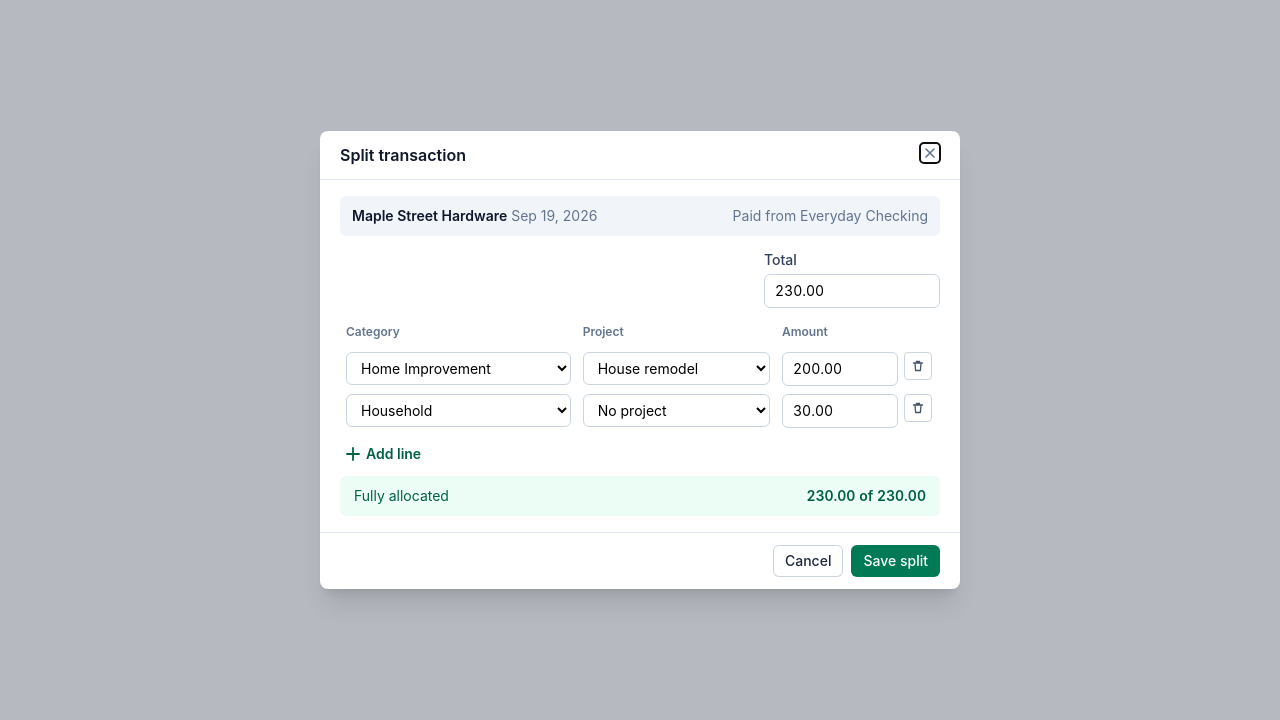
it: split editor › switches to the correction path when a save meets the lock
Click the button "Save split": x=896, y=561 [852,545,940,577]
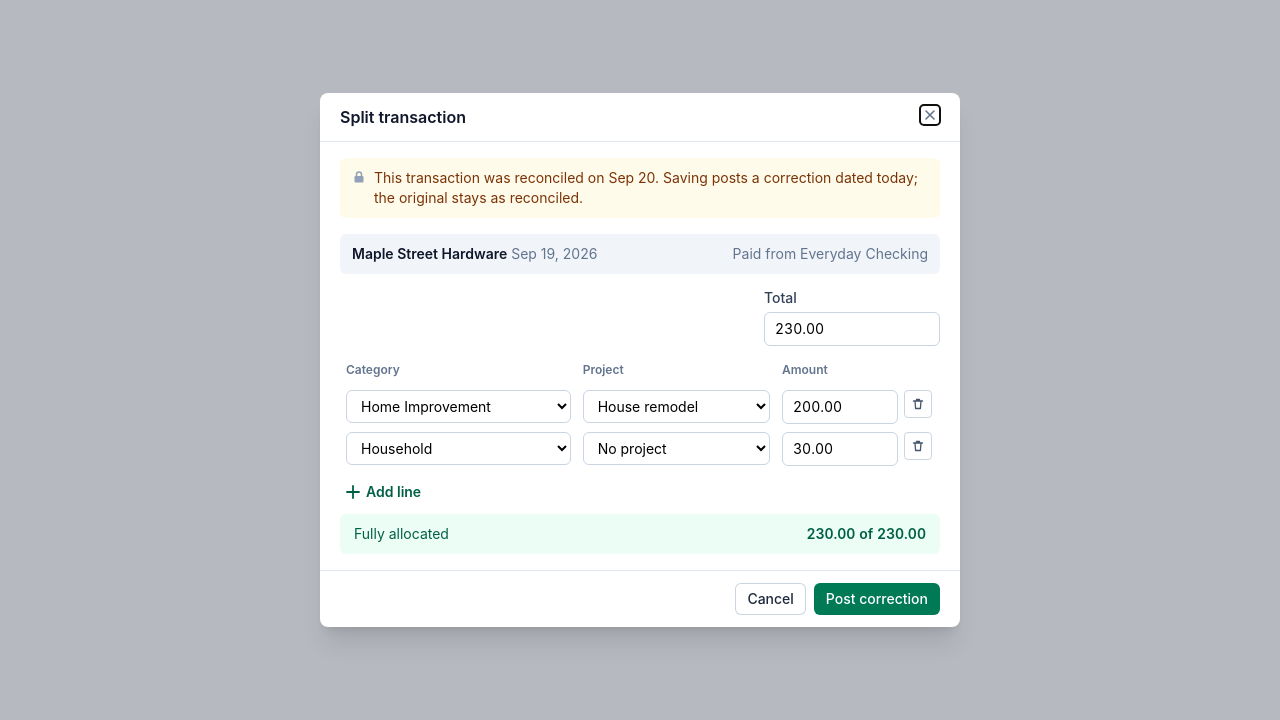
Check: the button "Post correction" is shown, box [814,583,940,615]
Check: the text "was reconciled on Sep 20" is shown, box [374,168,928,208]
